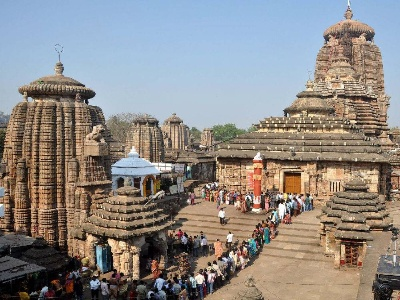amalaka: (12, 76, 105, 103), (312, 18, 381, 44)
gopuram: (4, 101, 103, 234)
